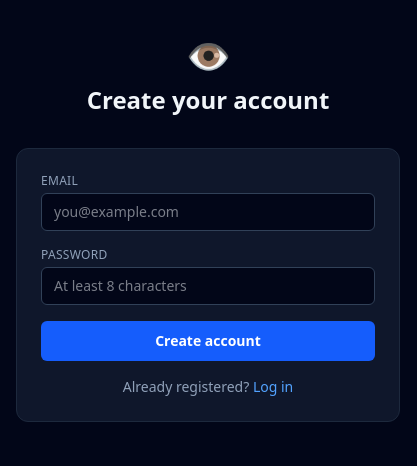
Test: RegisterPage › shows a friendly error when the email is taken
Type "taken@example.com" into the field labelled "Email".
click(208, 212); type("taken@example.com")  # box [41,193,375,231]
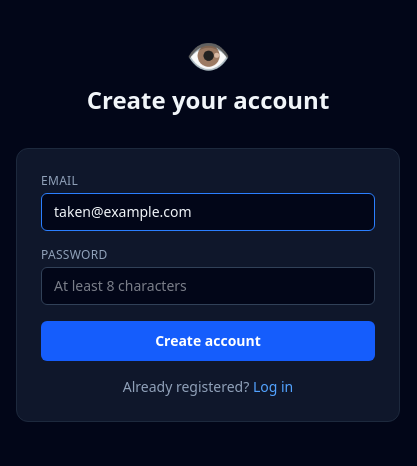
Type "password-123" into the password field labelled "Password".
click(208, 286); type("password-123")  # box [41,267,375,305]
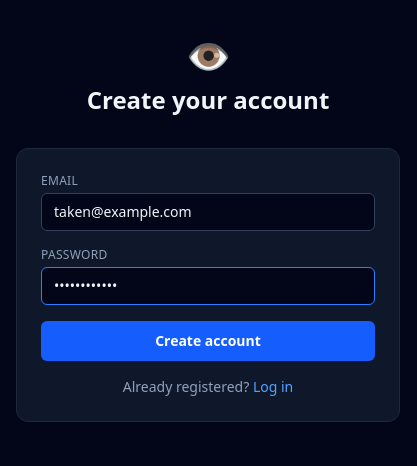
Click the button "Create account".
click(208, 341)  # box [41,321,375,361]
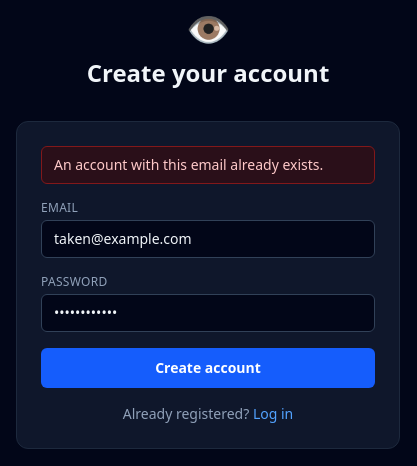
Expected: the message shows "already exists", [54,155,323,174]
